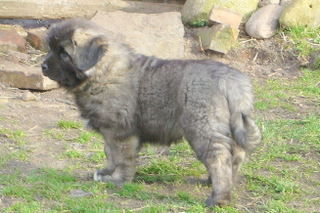cau_ovcharka: (39, 13, 262, 207)
